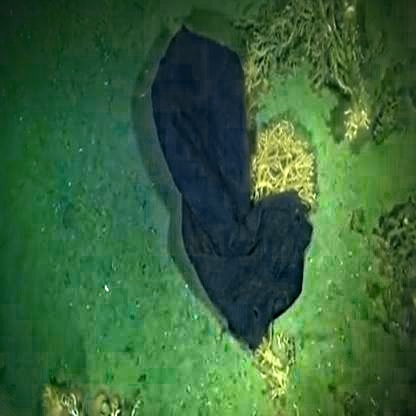plastic: (141, 49, 316, 346)
